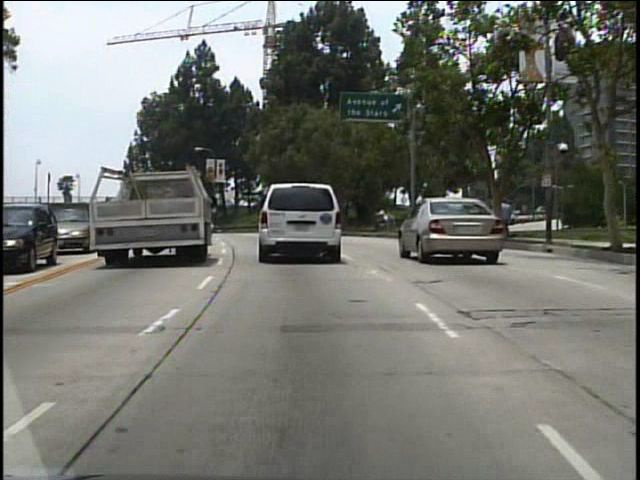person: (493, 192, 515, 239)
